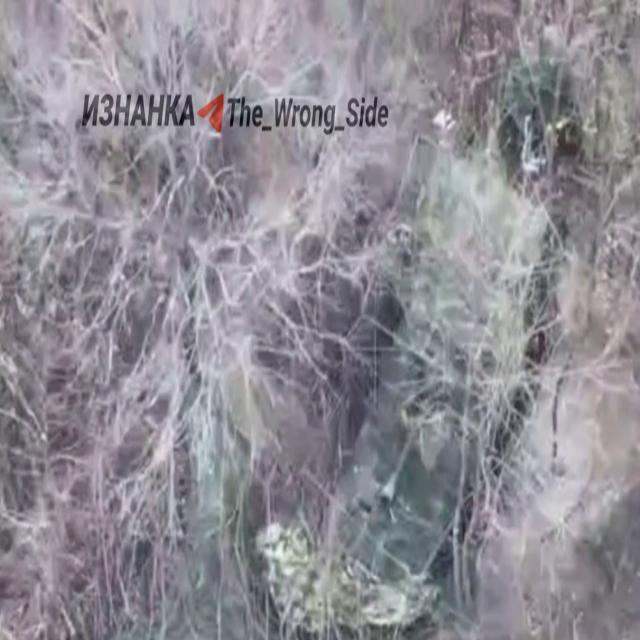vehicle: (339, 174, 552, 626)
